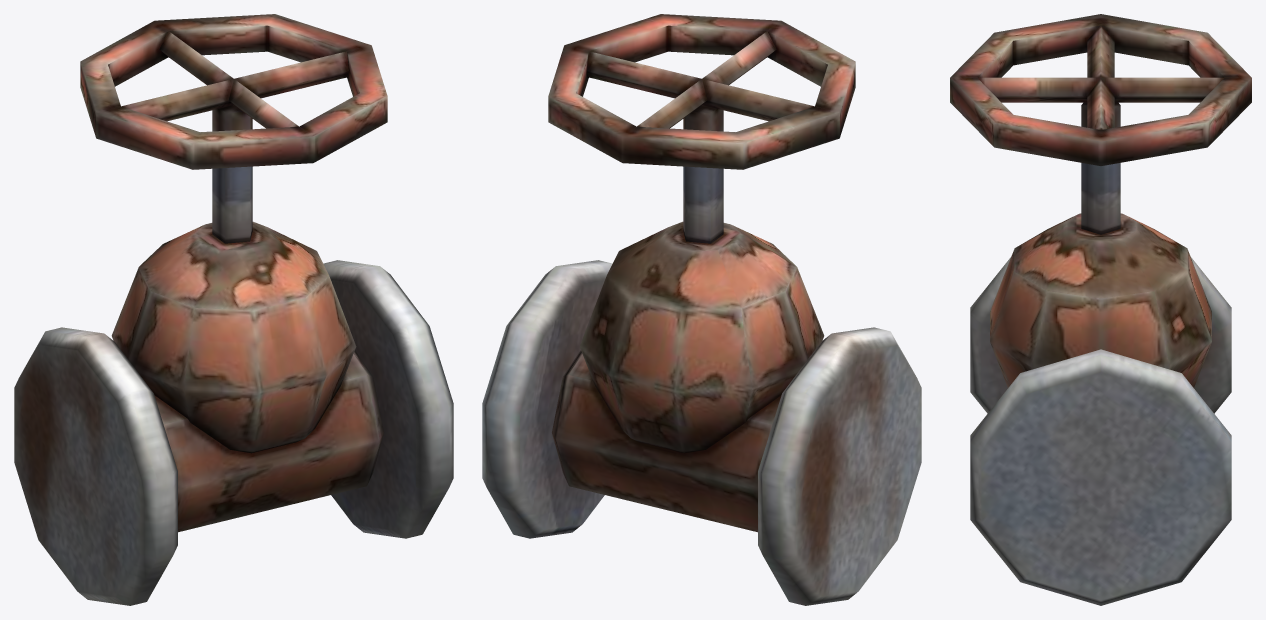
Rendered from valvula.glb.
3 views of the same model, side by side, from view 1: azimuth 30°, elevation 25°; view 2: azimuth 150°, elevation 25°; view 3: azimuth 270°, elevation 25° (orthographic). The views are drawn at different scales.
Parts seen in each view (by area): view 1: valvula; view 2: valvula; view 3: valvula.
Boxes of the visible parts, x1=… form: valvula: x1=14, y1=14, x2=453, y2=605; valvula: x1=482, y1=14, x2=921, y2=605; valvula: x1=950, y1=14, x2=1251, y2=605.
Bounding box in the file's own units: 0.25 × 0.37 × 0.2198.
1 material, 1 textured.
